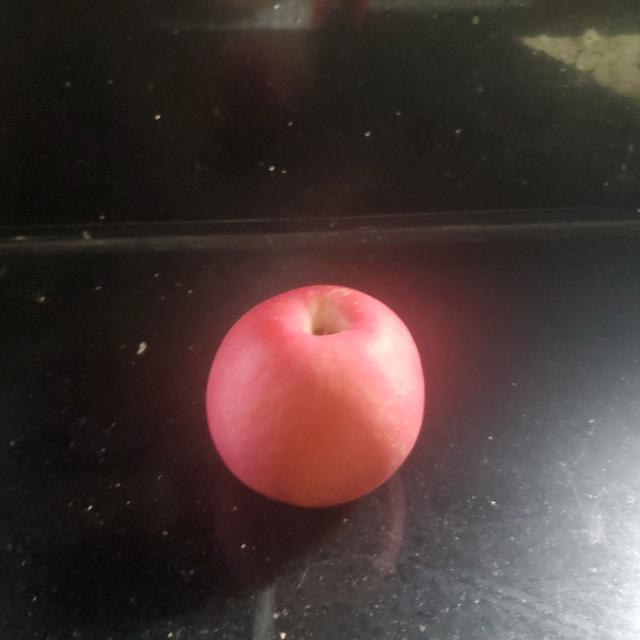apple: (206, 289, 424, 509)
